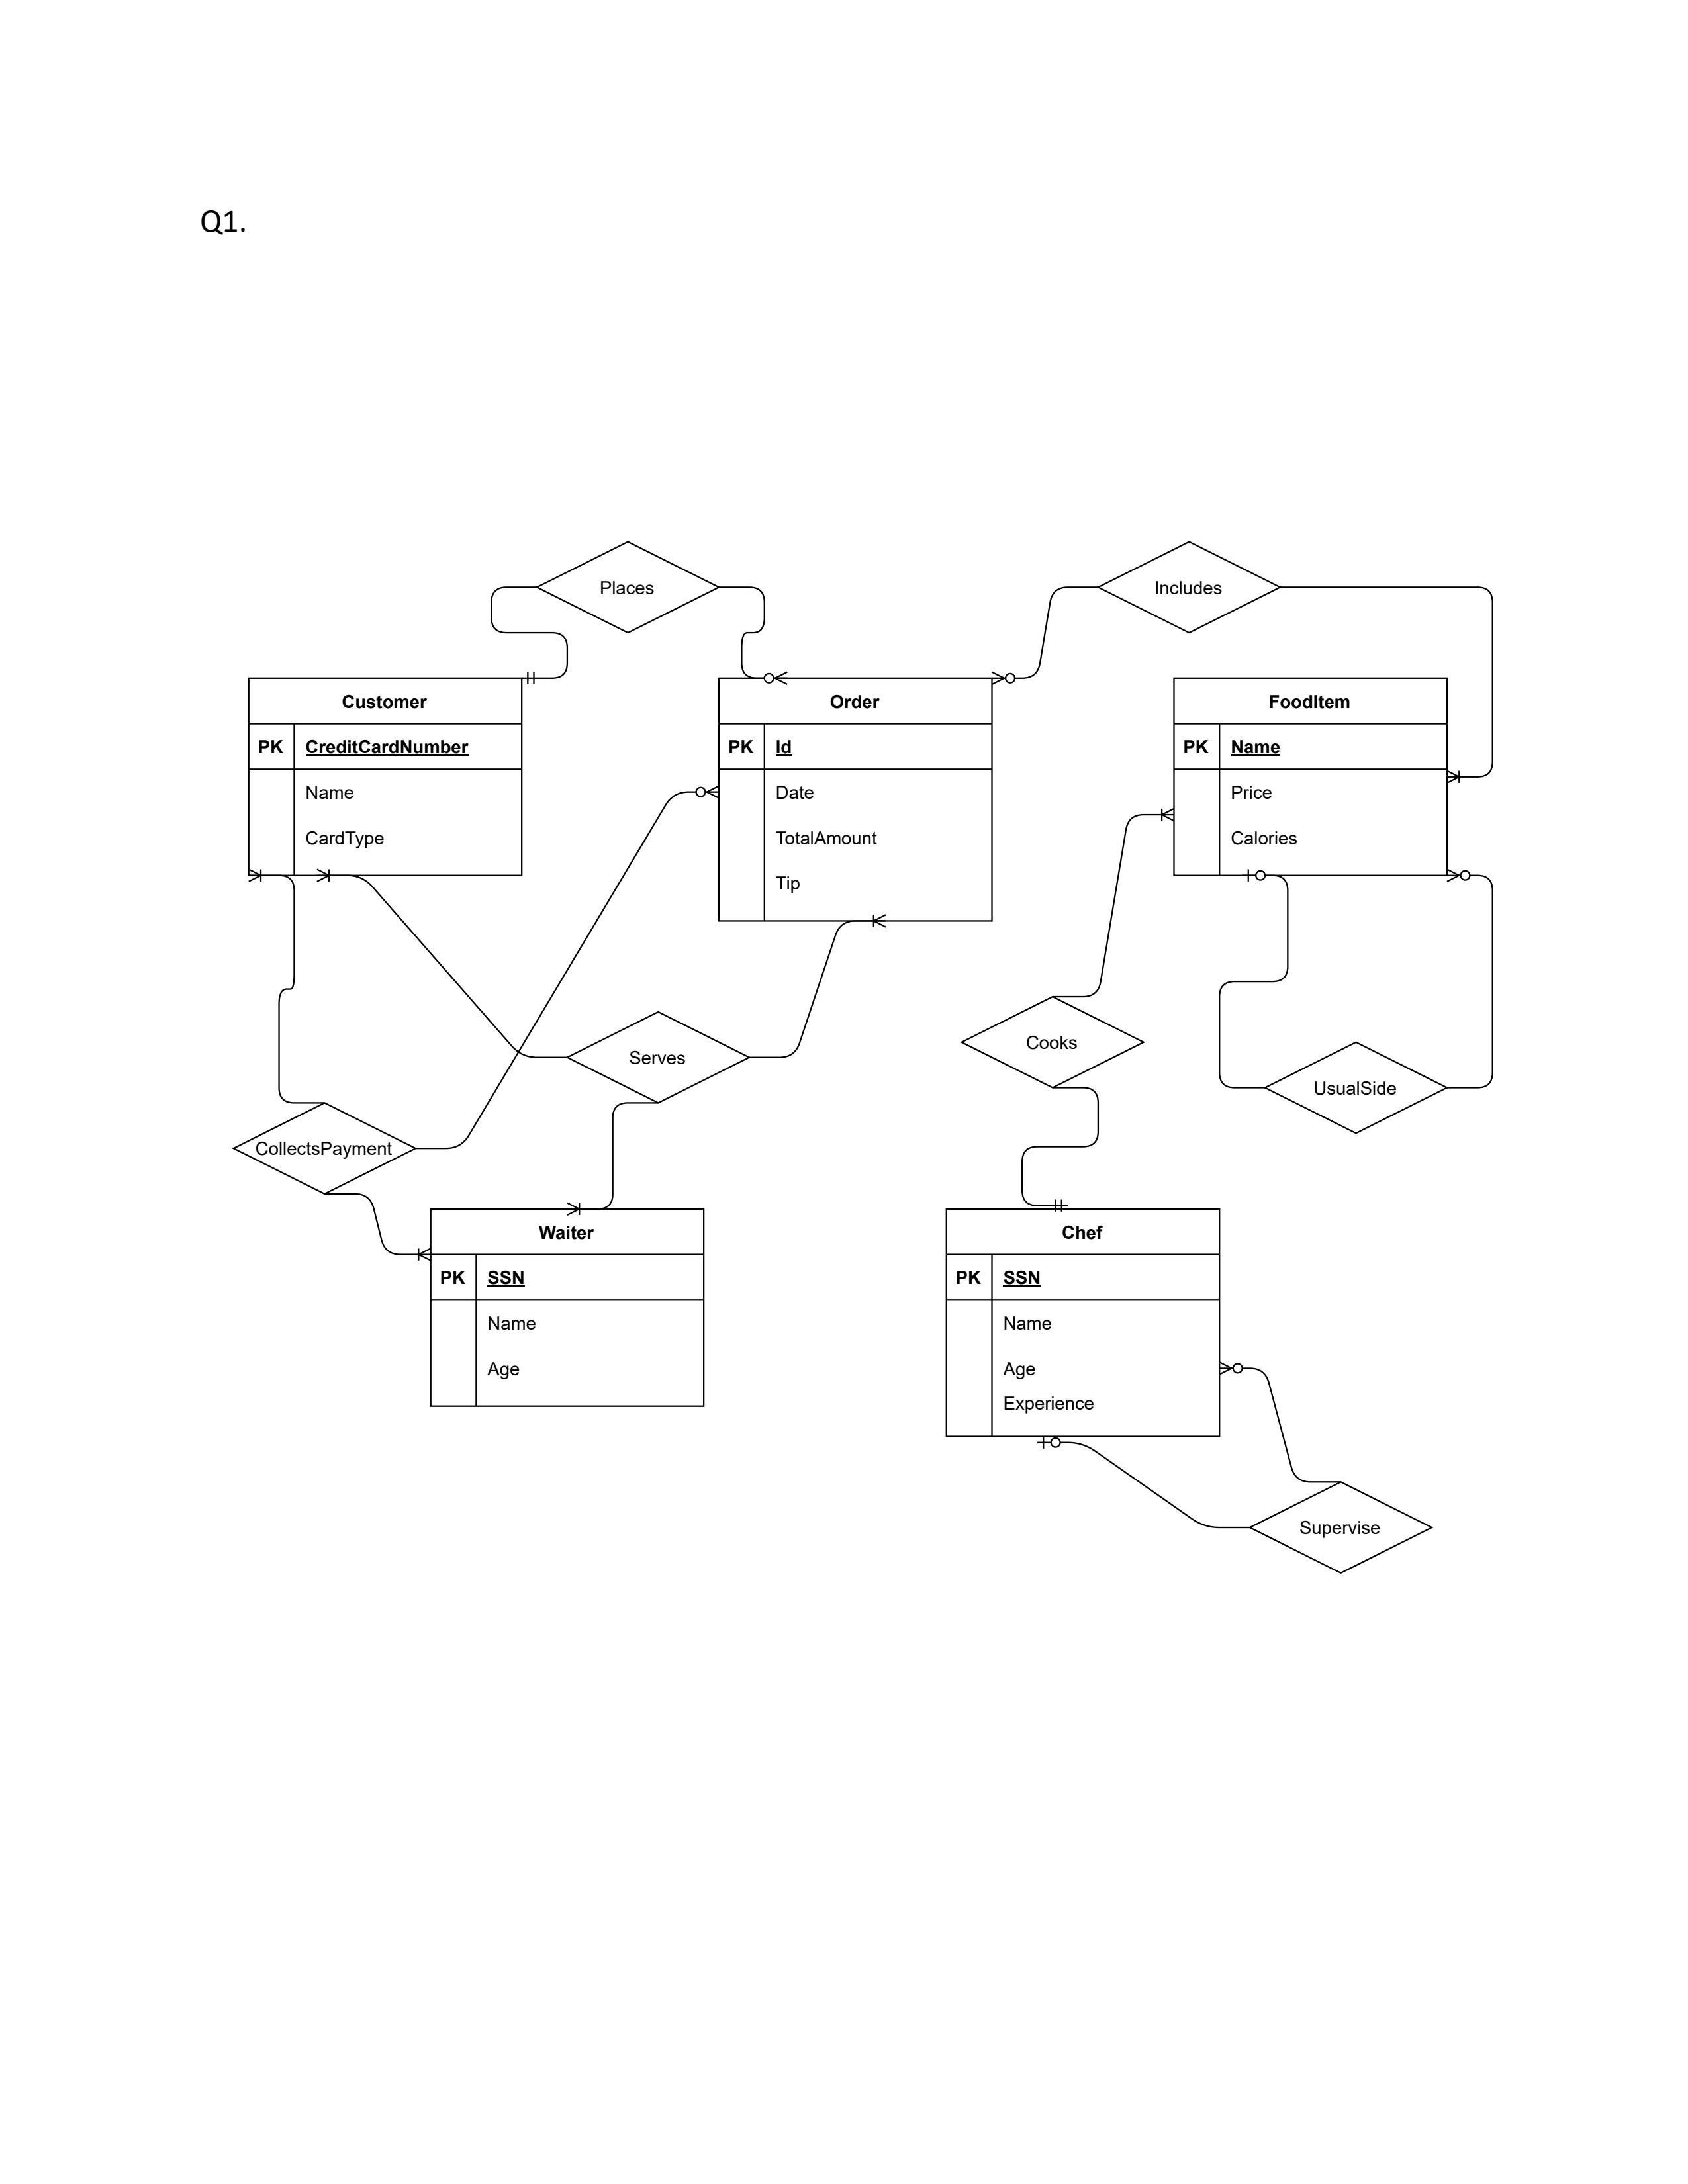Entity: (711, 675, 996, 925), (942, 1205, 1227, 1445), (1167, 670, 1456, 881), (246, 670, 530, 877), (424, 1205, 707, 1411)
Relationship: (227, 1099, 417, 1197), (1254, 1478, 1434, 1576), (532, 541, 718, 635), (564, 1010, 750, 1104), (1264, 1041, 1456, 1131), (957, 996, 1151, 1085), (1099, 541, 1280, 633)
